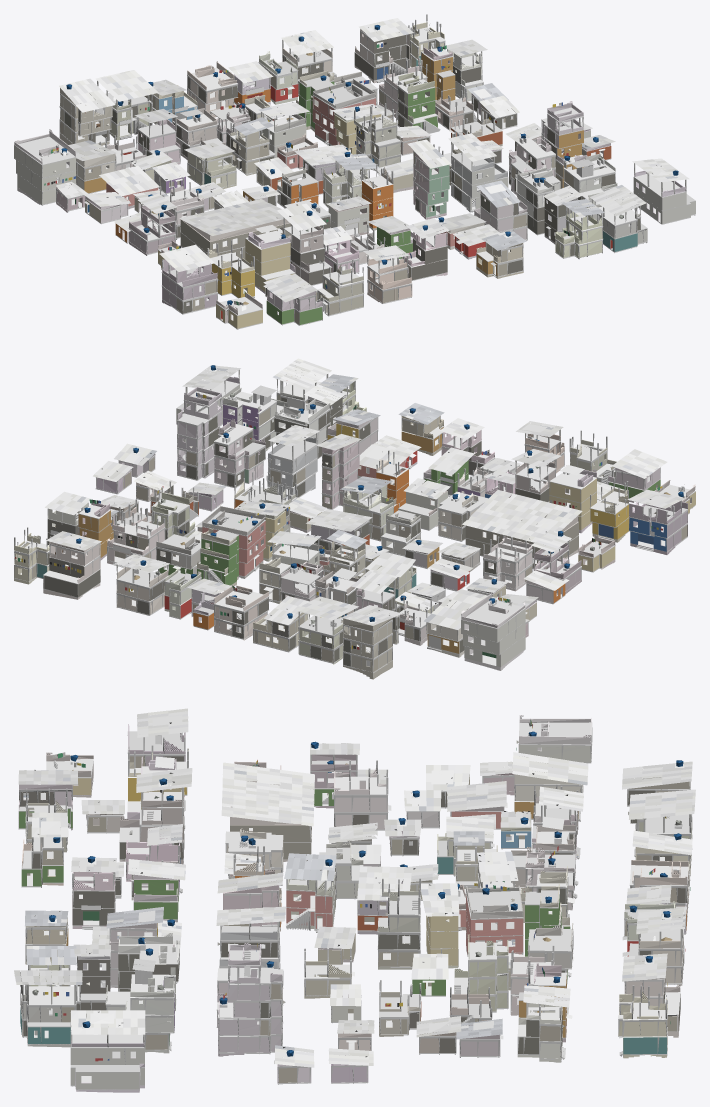
3 renders of one model, top to bottom at view 1: azimuth 30°, elevation 25°; view 2: azimuth 150°, elevation 25°; view 3: azimuth 270°, elevation 25°, orthographic. The views are drawn at different scales.
Parts seen in each view (by area): view 1: T_28_23; view 2: T_28_23; view 3: T_28_23.
Part boxes in pixels (box(x1,y1,x2,y2)): T_28_23: box(14, 14, 695, 329); T_28_23: box(14, 358, 695, 679); T_28_23: box(14, 708, 695, 1092).
Size of the model in its own units: 111 by 16.99 by 101.
